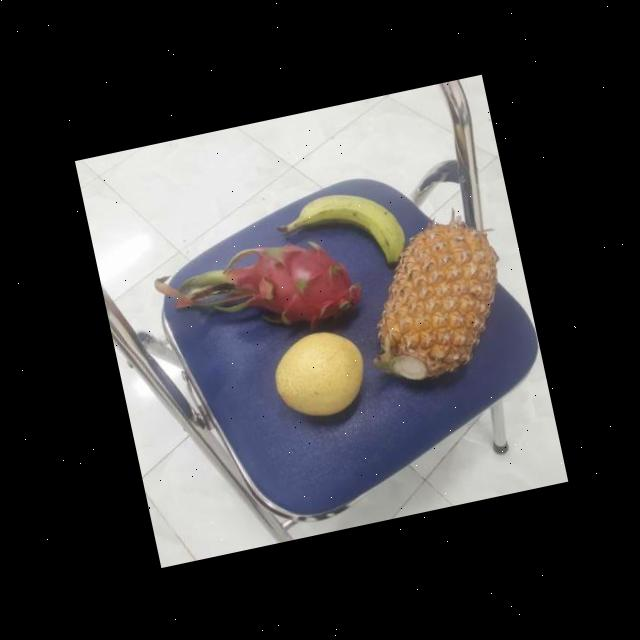banana: (286, 176, 410, 284)
pear: (265, 324, 376, 424)
pineapple: (352, 212, 518, 388)
pitaya: (223, 225, 370, 344)
